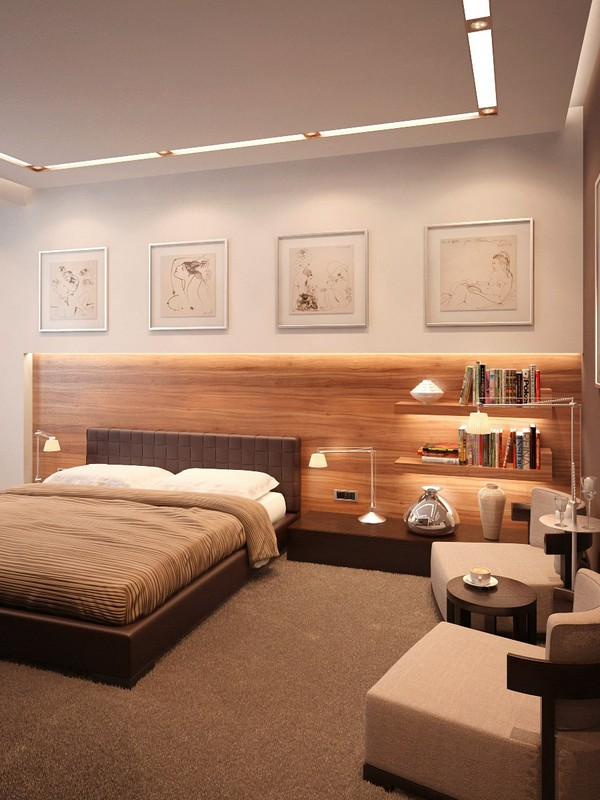bed: (7, 425, 302, 685)
lamp: (306, 445, 391, 541), (31, 426, 63, 500)
sofa: (365, 612, 595, 793), (432, 490, 566, 622)
stool: (435, 566, 540, 642)
